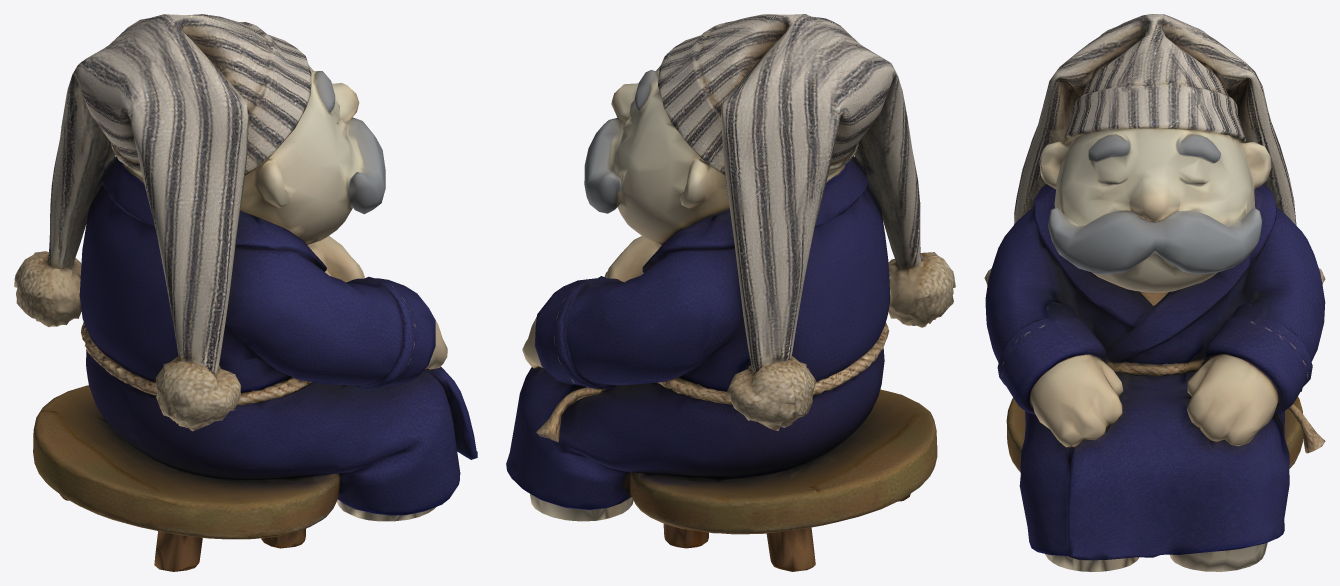
The model's file is prop_keeper.glb.
3 renders of one model, left to right at view 1: azimuth 30°, elevation 25°; view 2: azimuth 150°, elevation 25°; view 3: azimuth 270°, elevation 25°, orthographic. The views are drawn at different scales.
Parts seen in each view (by area): view 1: tripo_node_cf8843cf-13e6-4028-93f3-0eb3dcf7c496; view 2: tripo_node_cf8843cf-13e6-4028-93f3-0eb3dcf7c496; view 3: tripo_node_cf8843cf-13e6-4028-93f3-0eb3dcf7c496.
Boxes of the visible parts, bbox=[...] form: tripo_node_cf8843cf-13e6-4028-93f3-0eb3dcf7c496: bbox=[14, 14, 477, 571]; tripo_node_cf8843cf-13e6-4028-93f3-0eb3dcf7c496: bbox=[506, 14, 955, 571]; tripo_node_cf8843cf-13e6-4028-93f3-0eb3dcf7c496: bbox=[984, 14, 1325, 571].
Size of the model in its own units: 0.7881 by 1 by 0.6768.
1 material, 1 textured.
